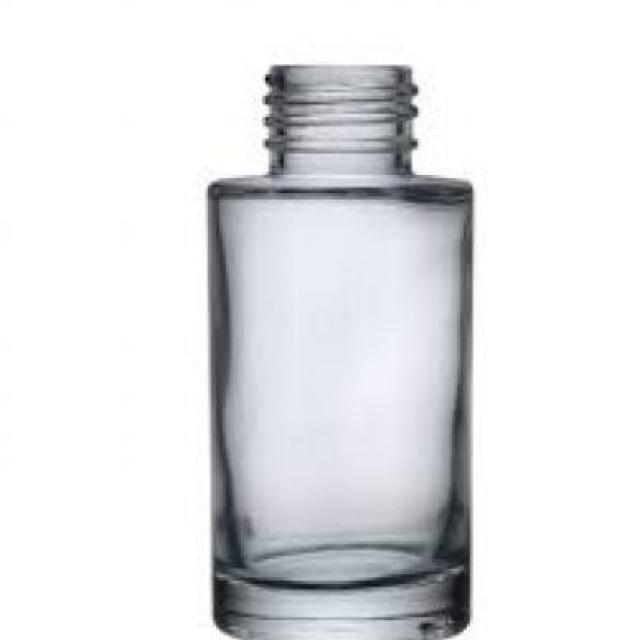kaca: (208, 62, 467, 640)
